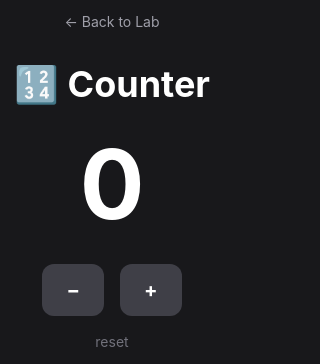
Scenario: CounterApp › decrements the count
The width and height of the screenshot is (320, 364).
What coordinates should you click on to do the following:
click the button with test id "decrement"
I would click on:
 (73, 290)
Its box is left=42, top=264, right=104, bottom=316.
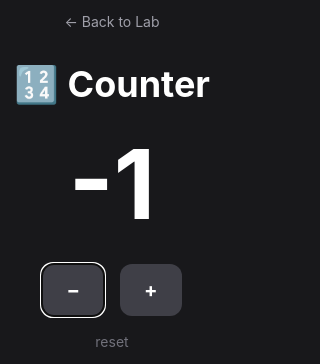
Result: the text "-1" is shown at left=69, top=126, right=155, bottom=242
